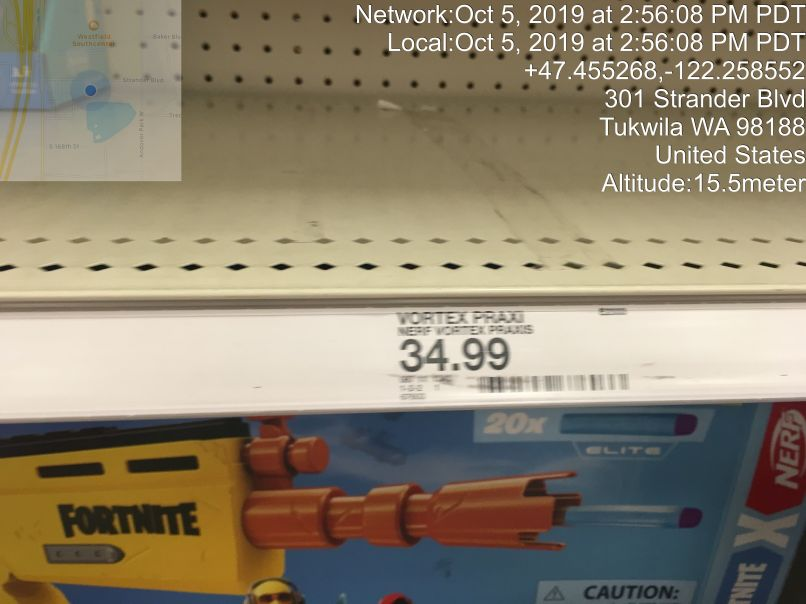Label: (387, 302, 634, 395)
Location: (595, 81, 806, 169)
Time: (346, 3, 806, 56)
Void: (21, 45, 589, 260)
